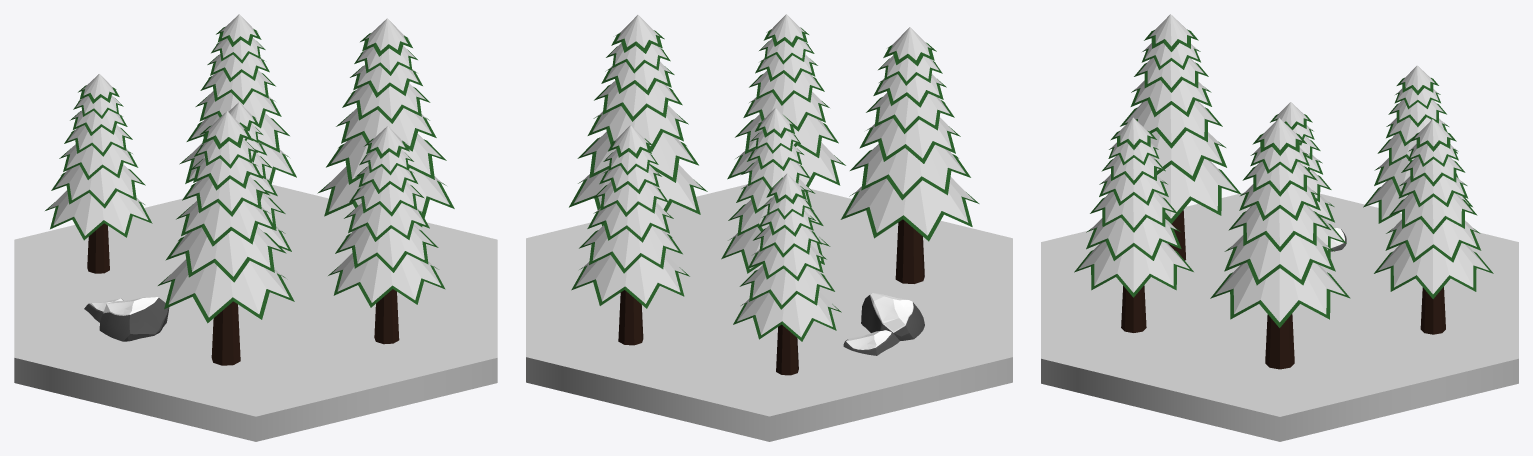
File: Tile_17.FBX
3 views of the same model, side by side, from view 1: azimuth 30°, elevation 25°; view 2: azimuth 150°, elevation 25°; view 3: azimuth 270°, elevation 25° (orthographic).
Parts seen in each view (by area): view 1: Ground, Circle.007, Circle.004, Circle.001, Circle.003, Circle.008, Rock, Circle.006; view 2: Ground, Circle.007, Circle.008, Circle.001, Circle.003, Circle.004, Circle.006, Rock, Rock001; view 3: Ground, Circle.001, Circle.007, Circle.008, Circle.004, Circle.003, Circle.006.
Boxes of the visible parts, <box> form: Ground: <box>14,184,497,441</box>; Circle.007: <box>158,111,294,365</box>; Circle.004: <box>328,126,445,344</box>; Circle.001: <box>317,18,454,226</box>; Circle.003: <box>45,74,152,273</box>; Circle.008: <box>179,14,296,183</box>; Rock: <box>99,297,169,341</box>; Circle.006: <box>229,102,291,251</box>; Ground: <box>526,184,1012,441</box>; Circle.007: <box>840,27,979,283</box>; Circle.008: <box>571,125,689,345</box>; Circle.001: <box>569,15,707,225</box>; Circle.003: <box>733,173,841,375</box>; Circle.004: <box>727,14,845,187</box>; Circle.006: <box>721,107,830,273</box>; Rock: <box>861,293,924,340</box>; Rock001: <box>843,330,899,355</box>; Ground: <box>1041,192,1518,441</box>; Circle.001: <box>1210,118,1350,369</box>; Circle.007: <box>1120,14,1241,260</box>; Circle.008: <box>1374,119,1493,334</box>; Circle.004: <box>1074,117,1193,332</box>; Circle.003: <box>1363,65,1472,223</box>; Circle.006: <box>1270,102,1346,257</box>.
Bounding box in the file's own units: 39.37 × 22.57 × 34.1.
